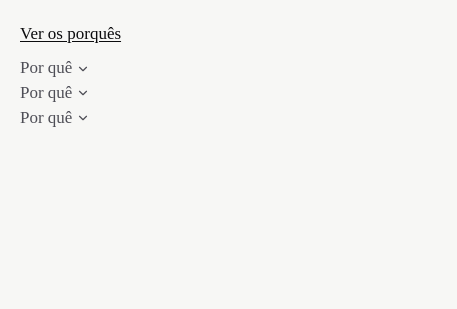
PorQue › as frases na tela: um botão, uma seção por frase
Click the button with aria-label "Por quê: Texto na tela" at (55, 118), box x1=12 y1=96 x2=98 y2=140
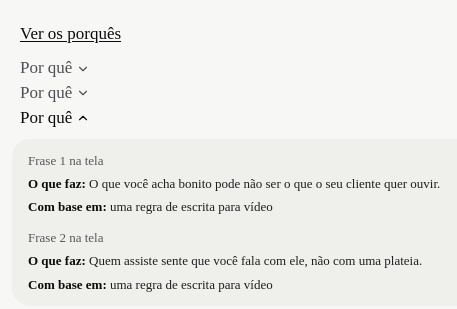
Expected: the text "Frase 1 na tela" is shown, x1=28 y1=153 x2=104 y2=168
Expected: the text "Frase 2 na tela" is shown, x1=28 y1=230 x2=104 y2=245
